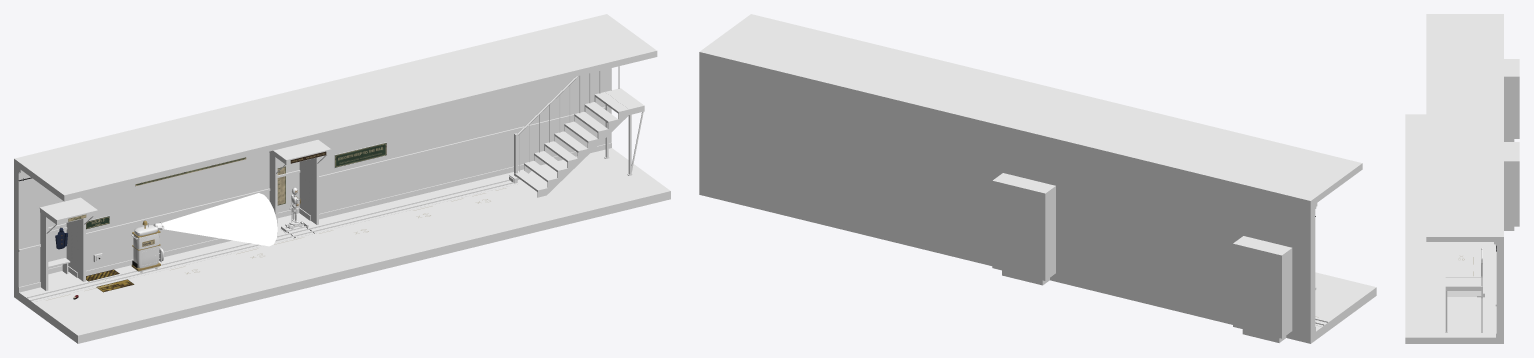
The picture shows the model from 3 angles, left to right: view 1: azimuth 30°, elevation 25°; view 2: azimuth 150°, elevation 25°; view 3: azimuth 270°, elevation 25°; orthographic projection. The views are drawn at different scales.
Visible parts, largest first — view 1: Att14bSet, MECH_EscortTrolley_dl14b_trolley__Att14bCone, MECH_EscortTrolley_dl14b_trolley; view 2: Att14bSet; view 3: Att14bSet.
Part boxes in pixels (x1,y1,x2,y2): Att14bSet: (14,14,670,343); MECH_EscortTrolley_dl14b_trolley__Att14bCone: (162,193,277,246); MECH_EscortTrolley_dl14b_trolley: (131,220,164,272); Att14bSet: (699,14,1376,343); Att14bSet: (1405,14,1519,343).
Size of the model in its own units: 15 by 3.35 by 3.25.
Materials: 20 (1 with a texture image).
